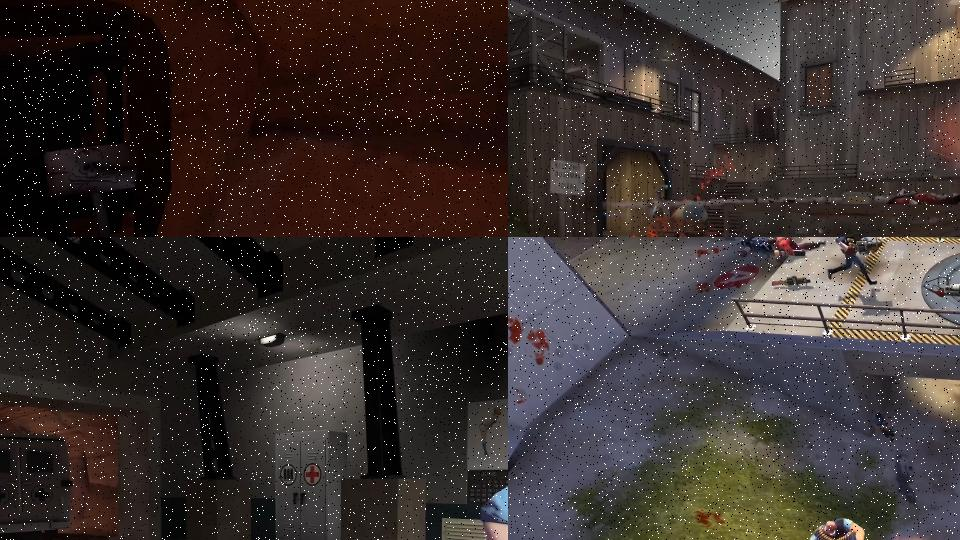Enemy: (804, 508, 903, 540), (824, 237, 886, 287), (866, 406, 902, 448), (884, 187, 960, 206), (768, 237, 826, 259), (737, 237, 775, 257)
